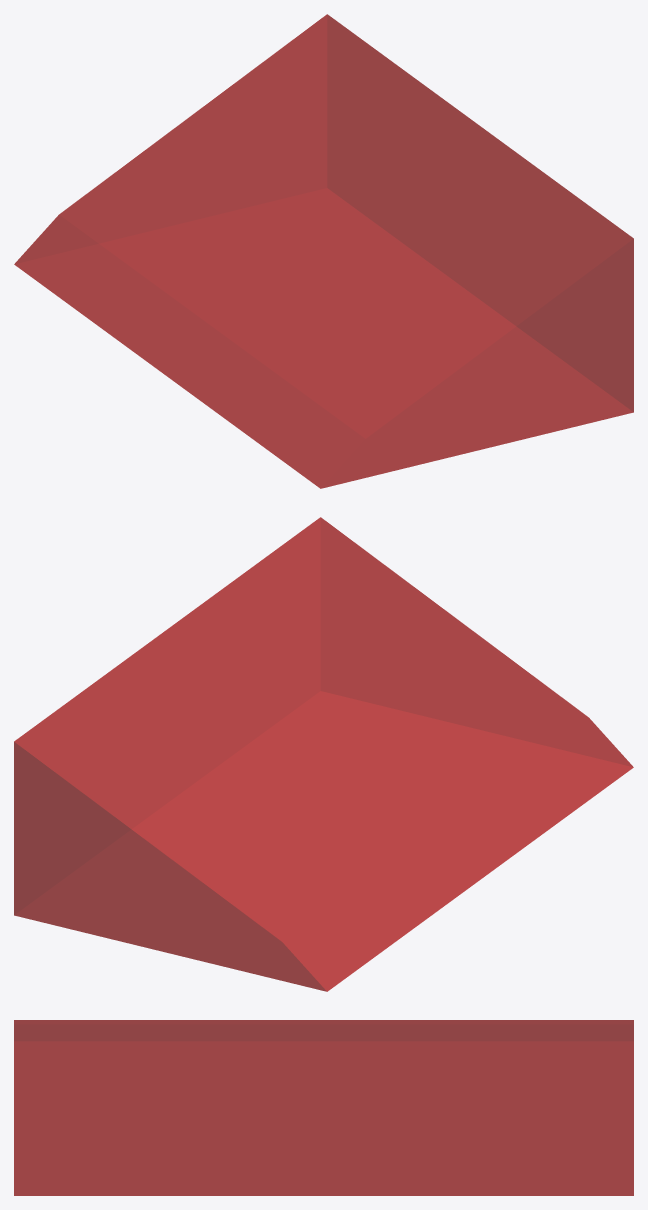
File: SM_Prop_LogPile_Small_Slope_01_Collision.fbx
3 views of the same model, one above another, from view 1: azimuth 30°, elevation 25°; view 2: azimuth 150°, elevation 25°; view 3: azimuth 270°, elevation 25° (orthographic).
Visible parts, largest first — view 1: SM_Prop_LogPile_Small_Slope_01_Collision; view 2: SM_Prop_LogPile_Small_Slope_01_Collision; view 3: SM_Prop_LogPile_Small_Slope_01_Collision.
Boxes of the visible parts, box(x1,y1,x2,y2) form: SM_Prop_LogPile_Small_Slope_01_Collision: box(14, 14, 633, 488); SM_Prop_LogPile_Small_Slope_01_Collision: box(14, 517, 633, 991); SM_Prop_LogPile_Small_Slope_01_Collision: box(14, 1020, 633, 1195).
Size of the model in its own units: 573 by 304 by 971.
